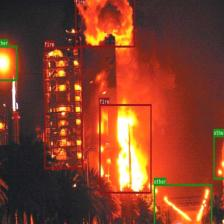fire: (44, 47, 83, 168), (99, 104, 151, 193), (74, 0, 134, 47)
